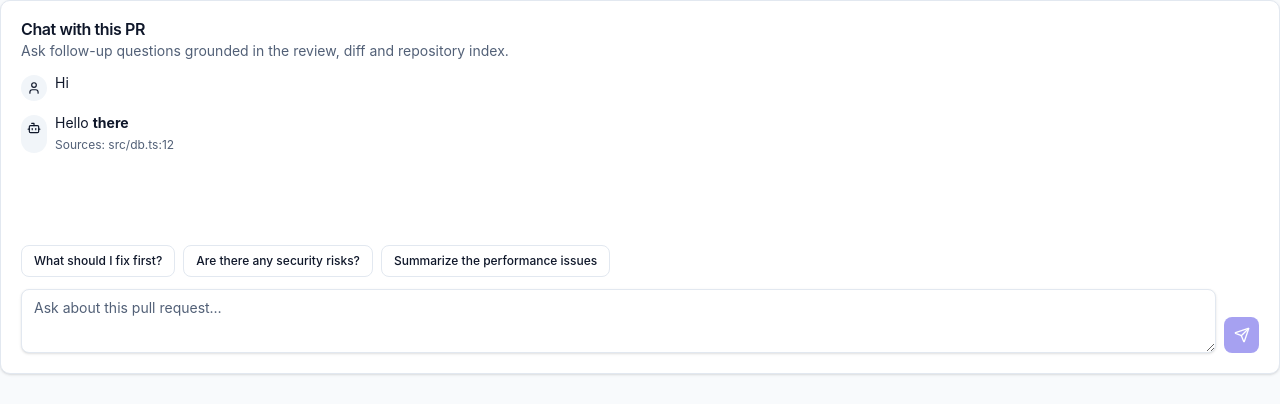
Test: ChatPanel › shows history, sends a question and renders the grounded answer
Expected: the text "there" is shown, x1=93 y1=114 x2=129 y2=131
Type "Any SQL injection?" into the text box labelled "Ask about this pull request" at (619, 321), box x1=21 y1=289 x2=1216 y2=353
Then press Enter
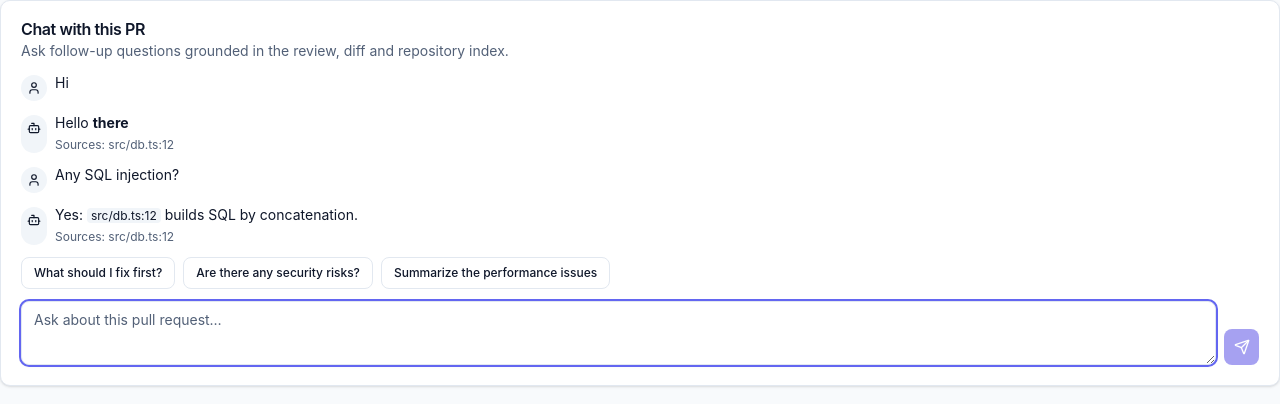
Expected: the text "Sources: src/db.ts:12" below "Hello" is shown, x1=55 y1=137 x2=174 y2=152
Now the text "Yes: src/db.ts:12 builds SQL by concatenation." is shown, box x1=55 y1=206 x2=358 y2=223
